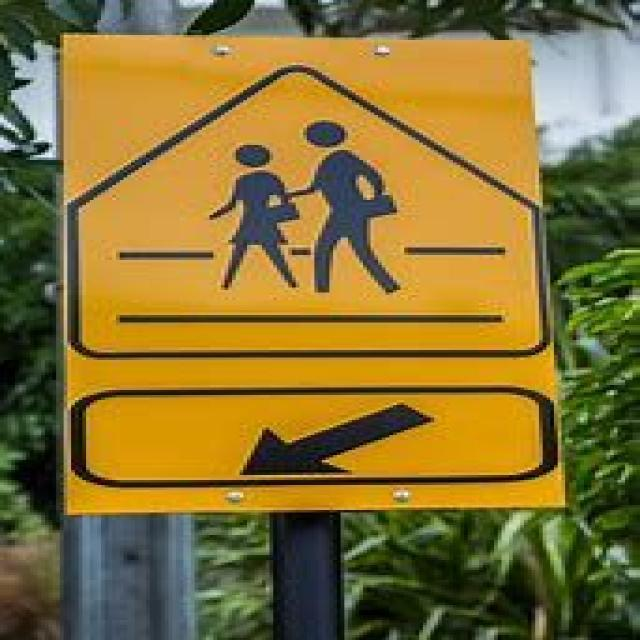school ahead: (82, 64, 514, 356)
